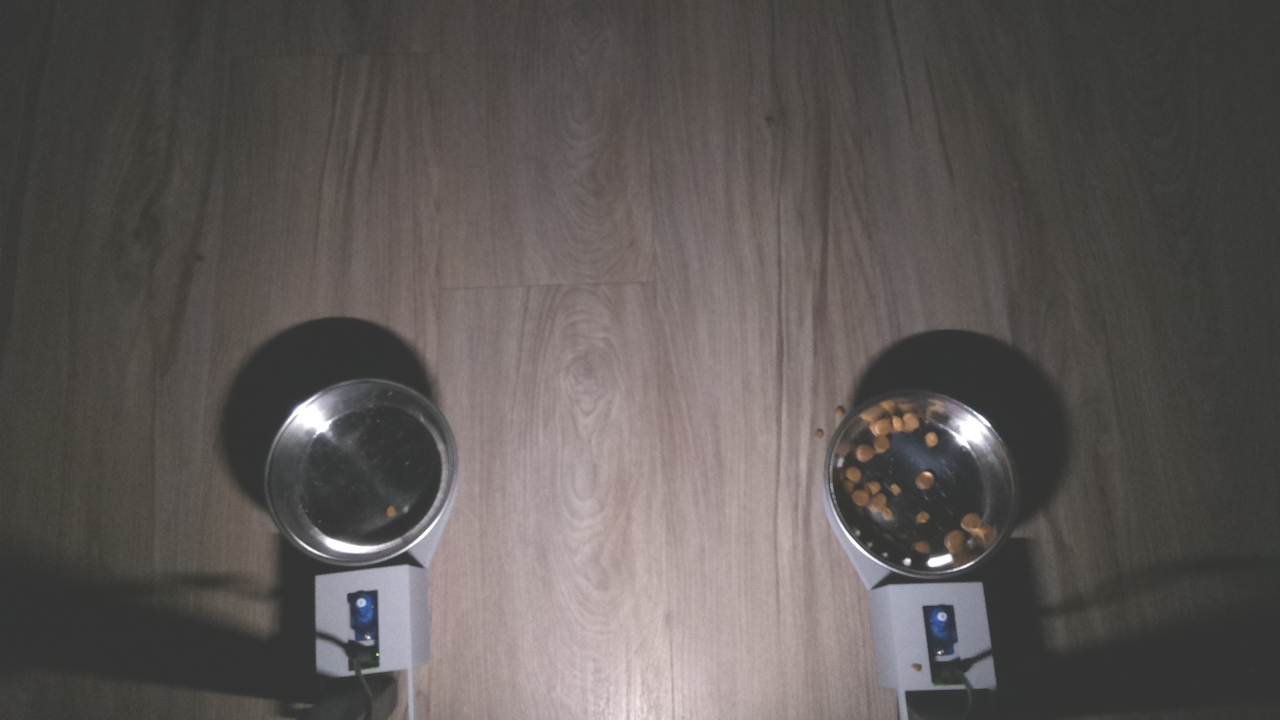open_bowl: (258, 372, 465, 580), (818, 384, 1022, 591)
